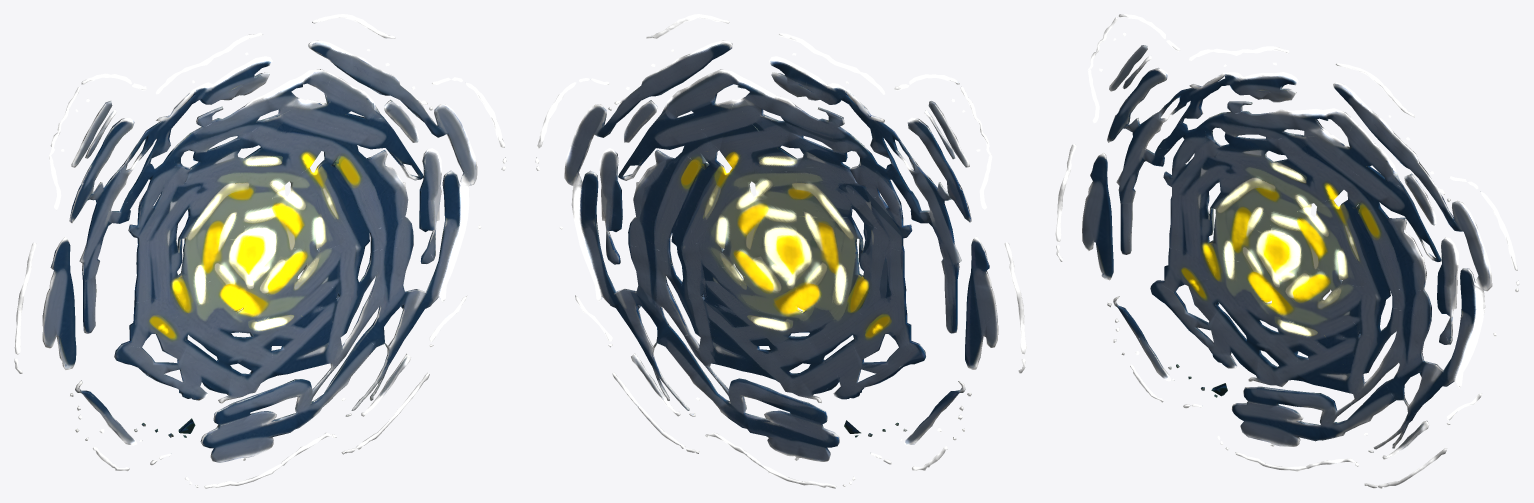
Rendered from gogh-star.glb.
3 renders of one model, left to right at view 1: azimuth 30°, elevation 25°; view 2: azimuth 150°, elevation 25°; view 3: azimuth 330°, elevation 25°, orthographic. The views are drawn at different scales.
Parts seen in each view (by area): view 1: Mesh_0.001; view 2: Mesh_0.001; view 3: Mesh_0.001.
Part boxes in pixels (x1=…): Mesh_0.001: x1=14, y1=14, x2=506, y2=488; Mesh_0.001: x1=535, y1=14, x2=1026, y2=488; Mesh_0.001: x1=1055, y1=14, x2=1519, y2=488.
Size of the model in its own units: 0.1382 by 0.12 by 0.00142.
Materials: 1 (1 with a texture image).
